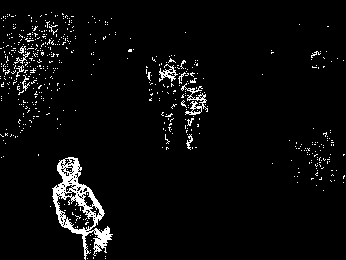person: (51, 156, 114, 260), (178, 74, 209, 154)
